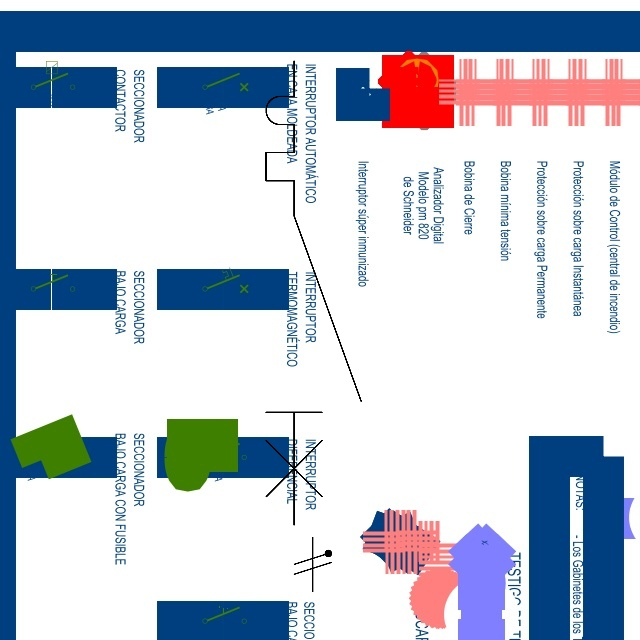interruptor_termomagnetico: (254, 49, 373, 537)
